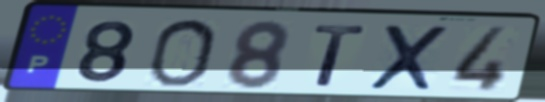4: (446, 24, 510, 94)
8: (224, 18, 293, 91), (76, 19, 137, 84)
O: (144, 17, 221, 89)
T: (310, 22, 370, 89)
X: (365, 22, 453, 94)
